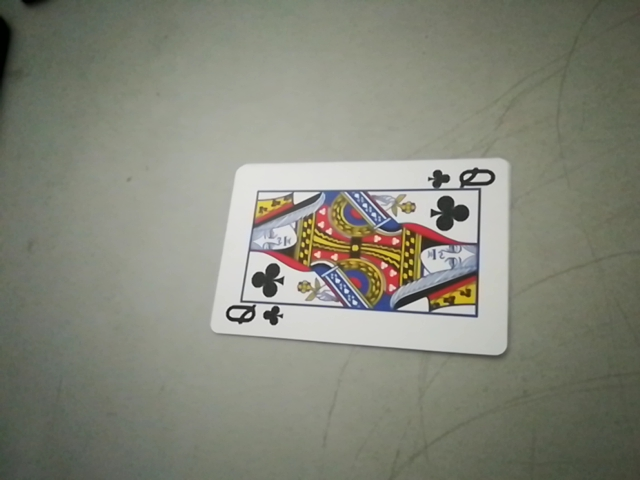mh j: (218, 301, 288, 331), (432, 163, 498, 191)
